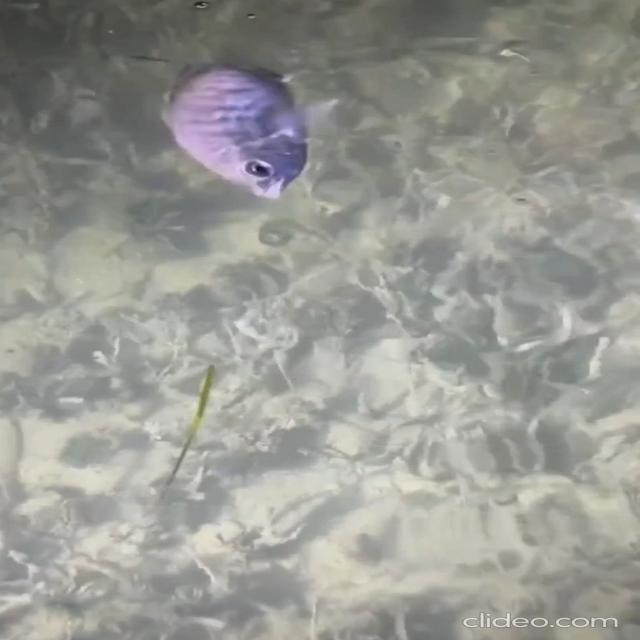fish: (150, 51, 331, 211)
